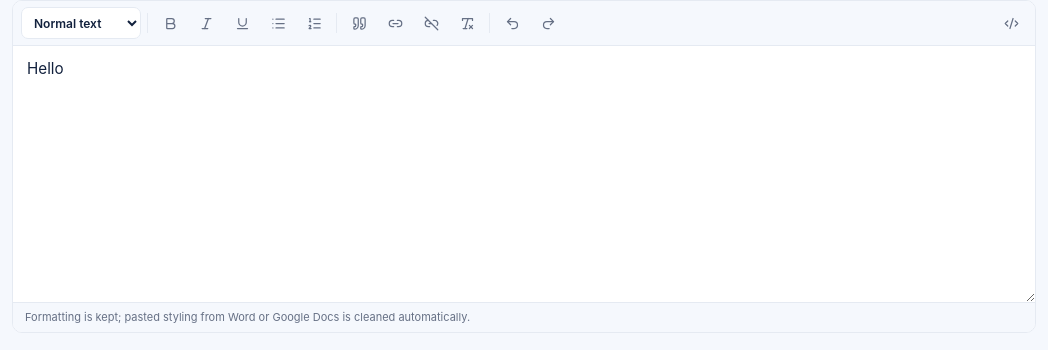
Test: RichTextEditor — HTML source view › reveals the raw markup when toggled, keeping the power-user path
Click the button named "edit html source": (1011, 23) [995, 7, 1027, 39]
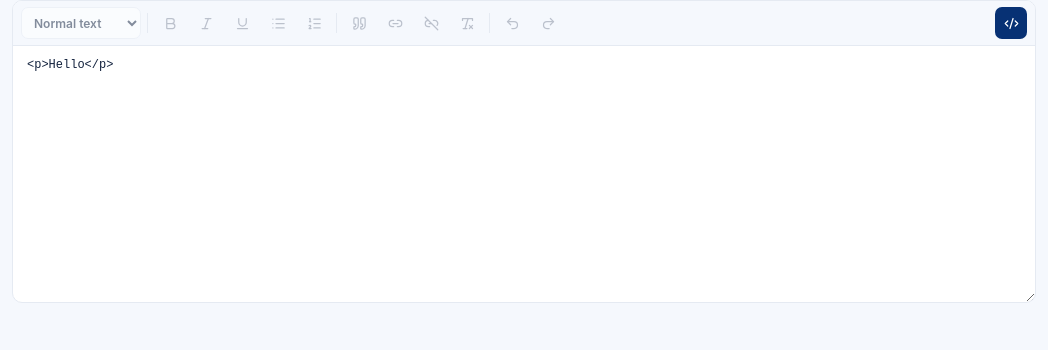
Expected: the text box showing "<p>Hello</p>" is shown
